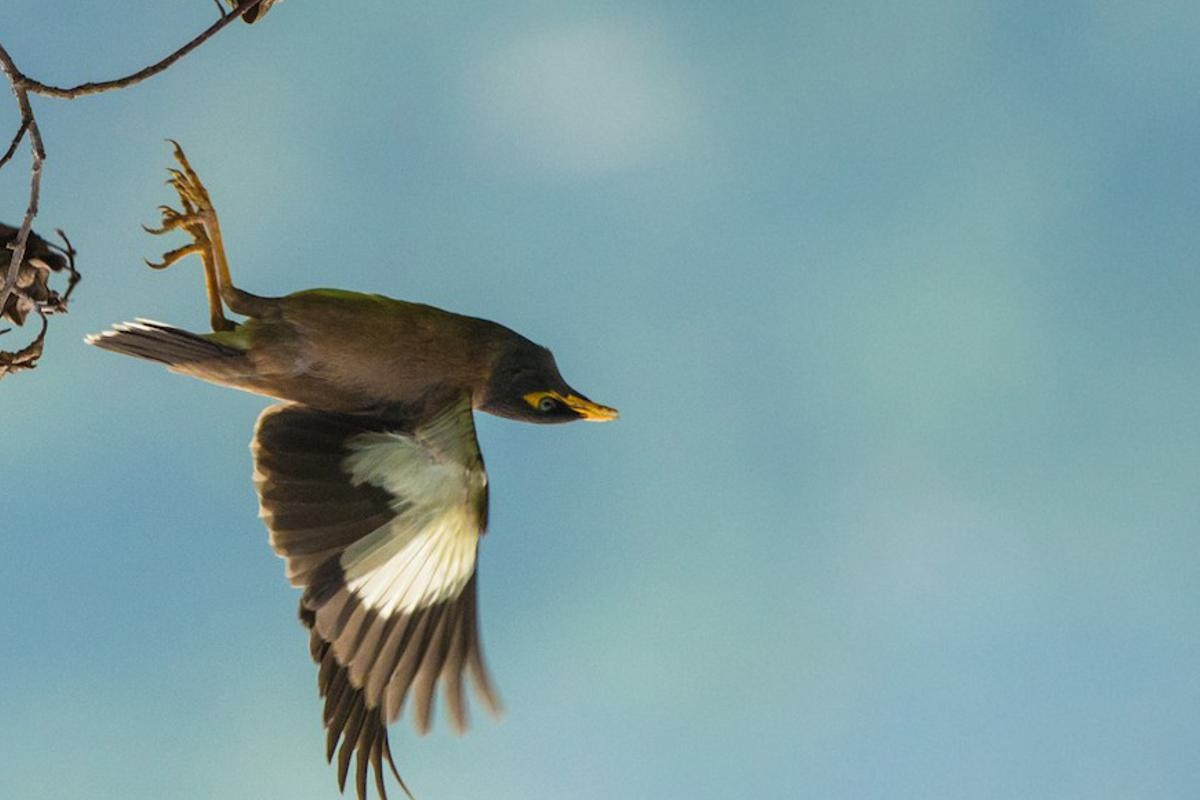myna: (96, 138, 628, 716)
